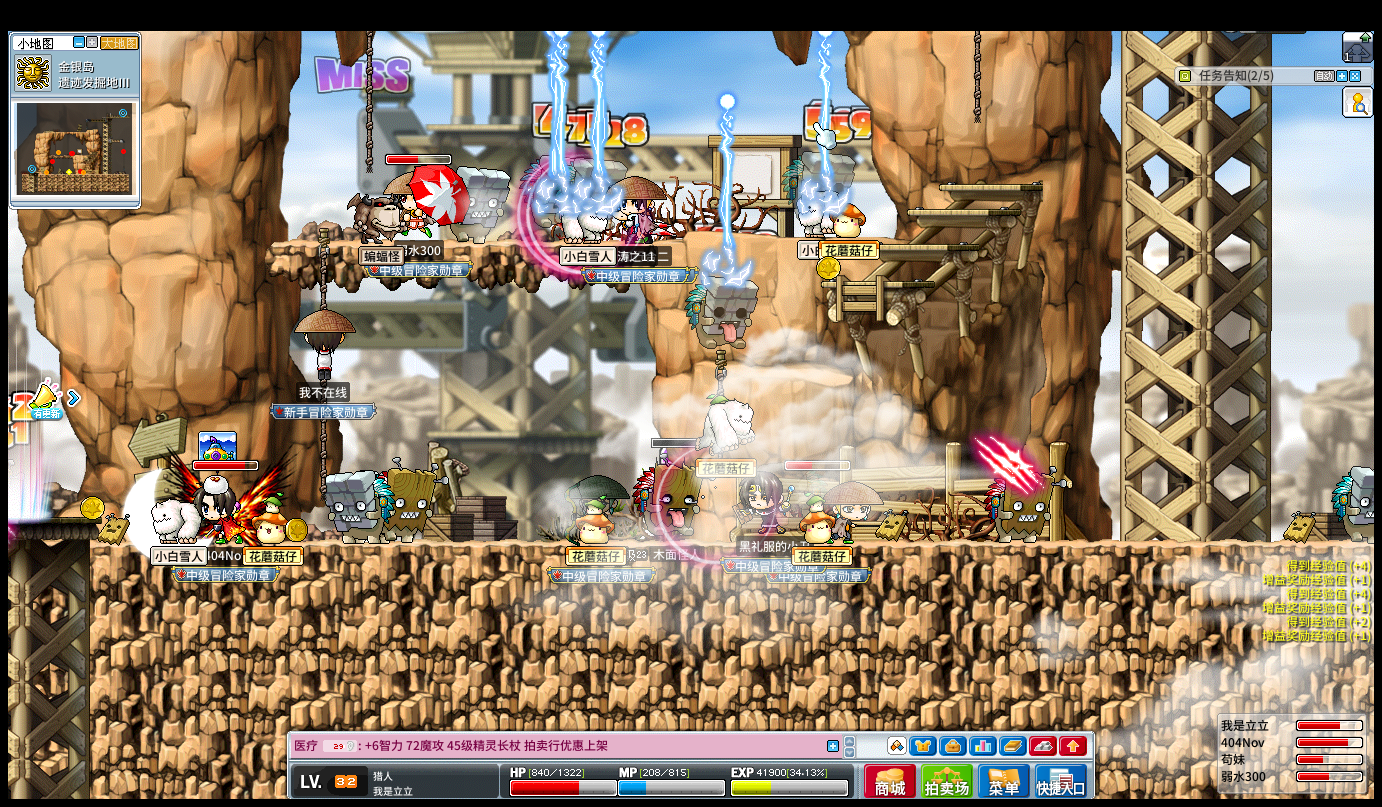floor: (268, 236, 662, 246), (738, 367, 855, 386), (750, 232, 909, 241), (817, 279, 931, 291), (814, 279, 933, 288), (872, 242, 977, 251), (939, 184, 1041, 192), (902, 207, 1017, 214), (9, 515, 101, 523)
monster: (982, 441, 1067, 542), (635, 453, 708, 540), (683, 276, 757, 353), (386, 460, 453, 543), (324, 469, 393, 544), (784, 150, 843, 224), (459, 165, 511, 241), (1330, 465, 1380, 541)
rope: (364, 24, 372, 176), (315, 228, 326, 308), (971, 30, 980, 121), (316, 420, 324, 492)
